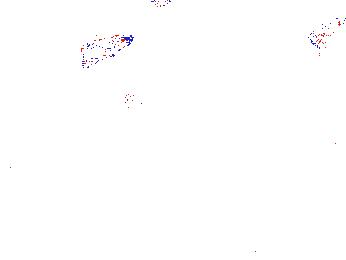red belly glassfish: (137, 1, 173, 9)
redtail glassfish: (78, 33, 136, 69), (304, 15, 346, 50), (117, 87, 167, 110)
